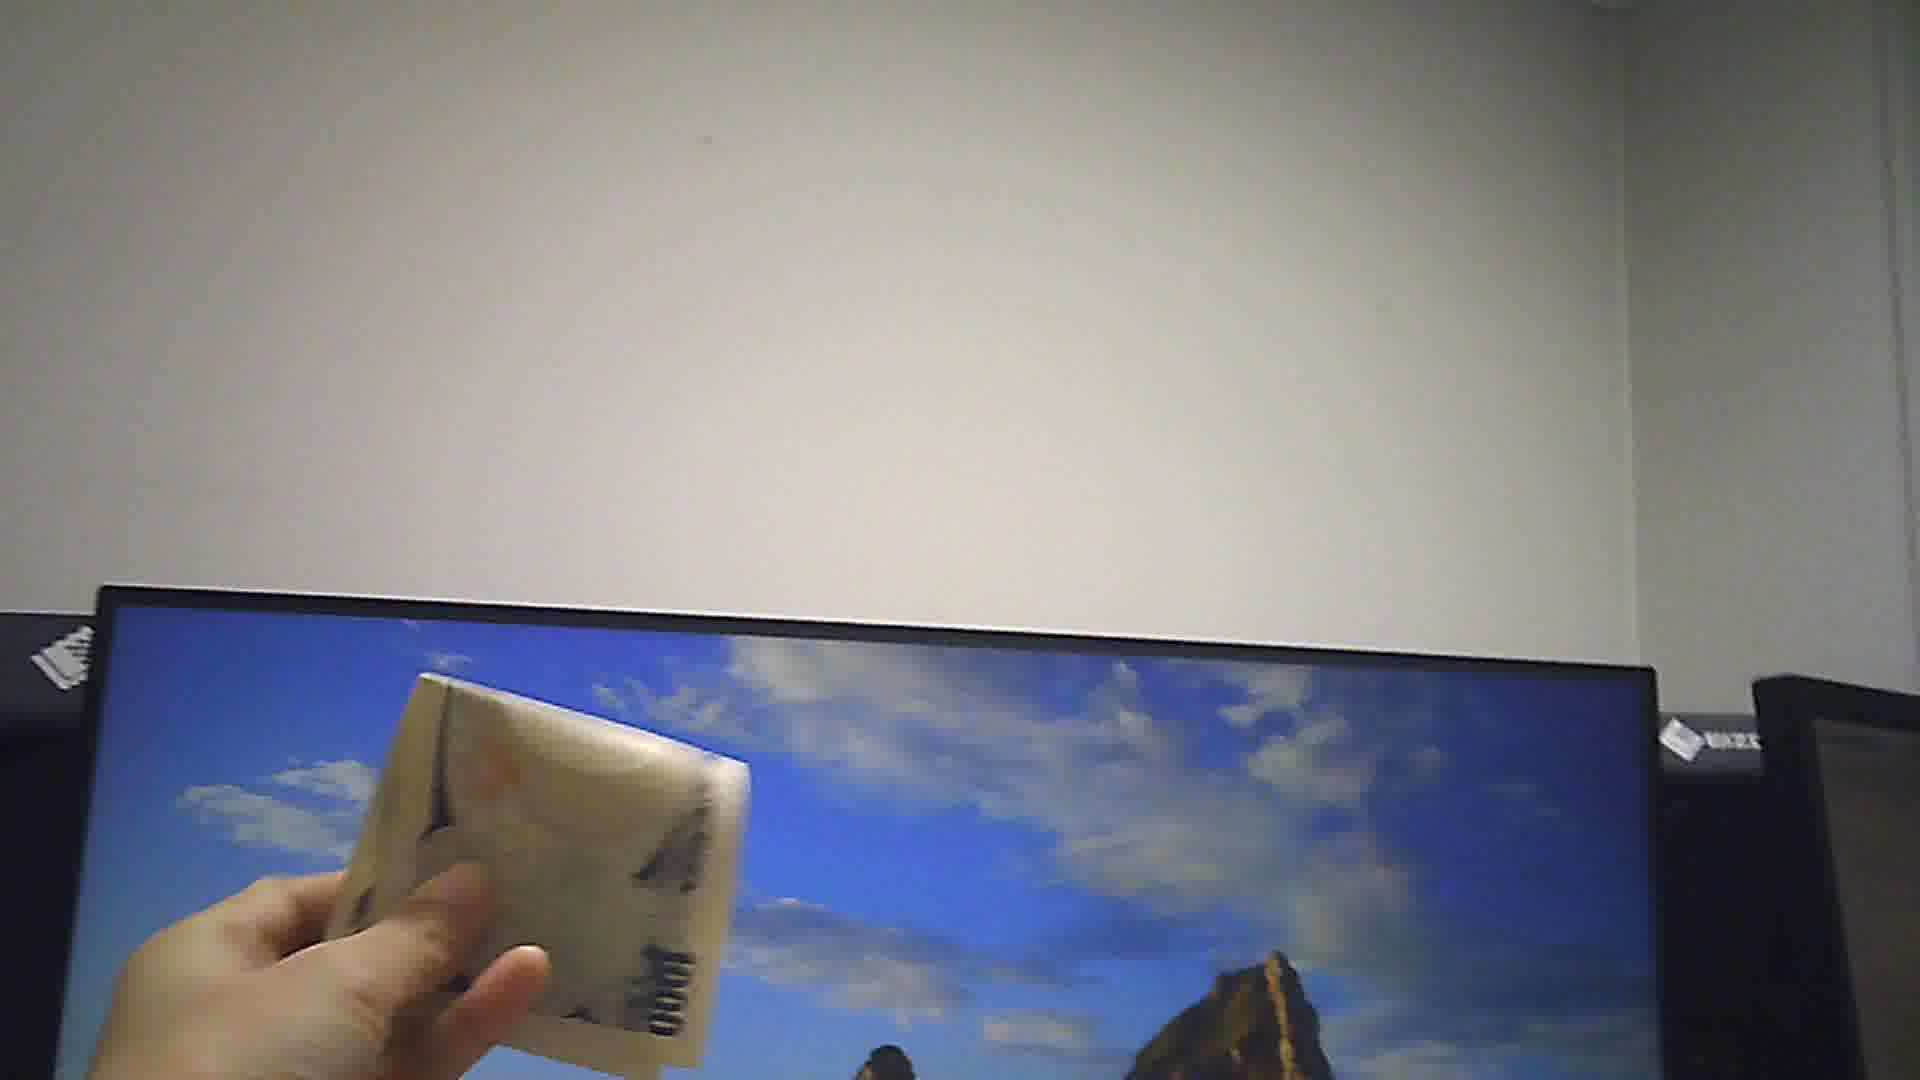1,000 Yen: (324, 663, 773, 1079)
